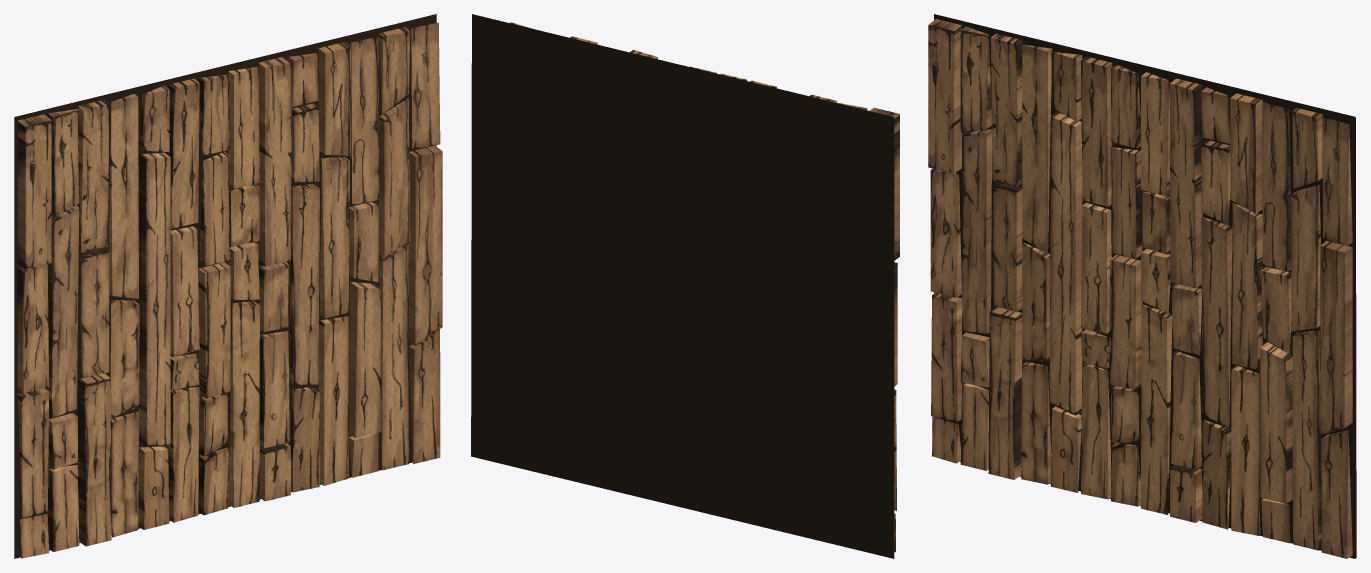
The model's file is wooden_wall.glb.
3 renders of one model, left to right at view 1: azimuth 30°, elevation 25°; view 2: azimuth 150°, elevation 25°; view 3: azimuth 330°, elevation 25°, orthographic.
Visible parts, largest first — view 1: Wood Wall; view 2: Wood Wall; view 3: Wood Wall.
Part boxes in pixels (<box>): Wood Wall: <box>14,14,442,558</box>; Wood Wall: <box>471,14,899,558</box>; Wood Wall: <box>928,14,1356,558</box>.
Size of the model in its own units: 2 by 2 by 0.0773.
Materials: 1 (1 with a texture image).
